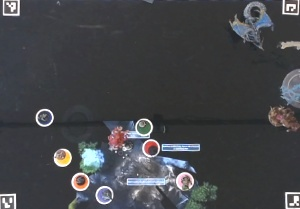blue: (34, 106, 54, 126)
green: (135, 117, 152, 137)
orange: (71, 170, 89, 190)
pink: (175, 170, 196, 191)
red: (141, 137, 162, 156)
violet: (93, 184, 114, 203)
yellow: (50, 146, 72, 168)
